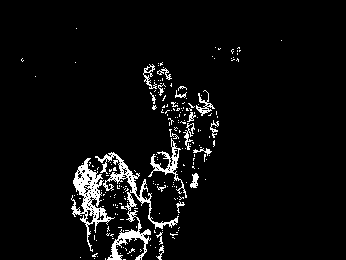person: (150, 149, 187, 254), (100, 153, 138, 234), (193, 88, 219, 195), (76, 158, 100, 250), (171, 85, 192, 161), (140, 62, 156, 118), (159, 61, 171, 122)
